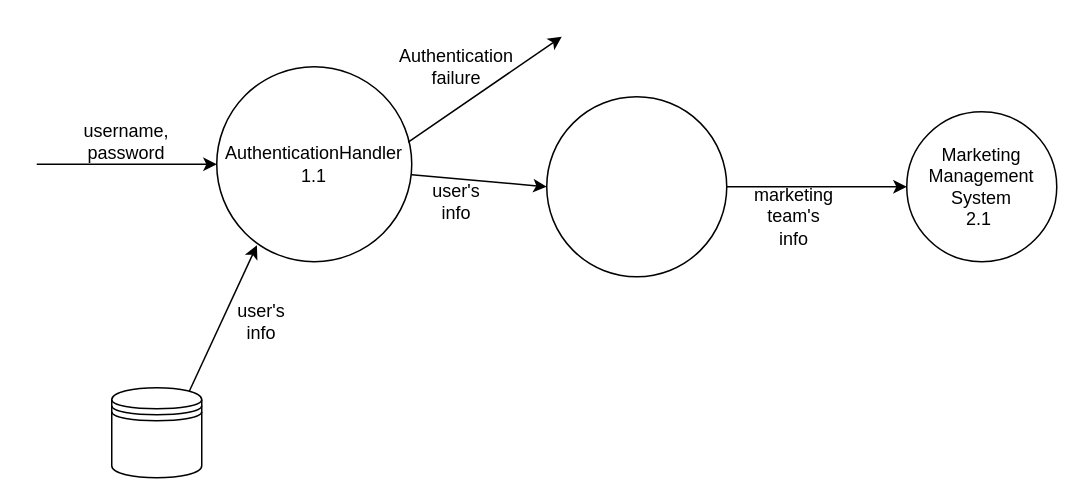
This 1083x504 diagram has some shape labels left out. Here are the shapes that lost their labels. From the top down, the centre of each, then its label:
At point 636,186: "Role checker".
At point 156,432: "user".
